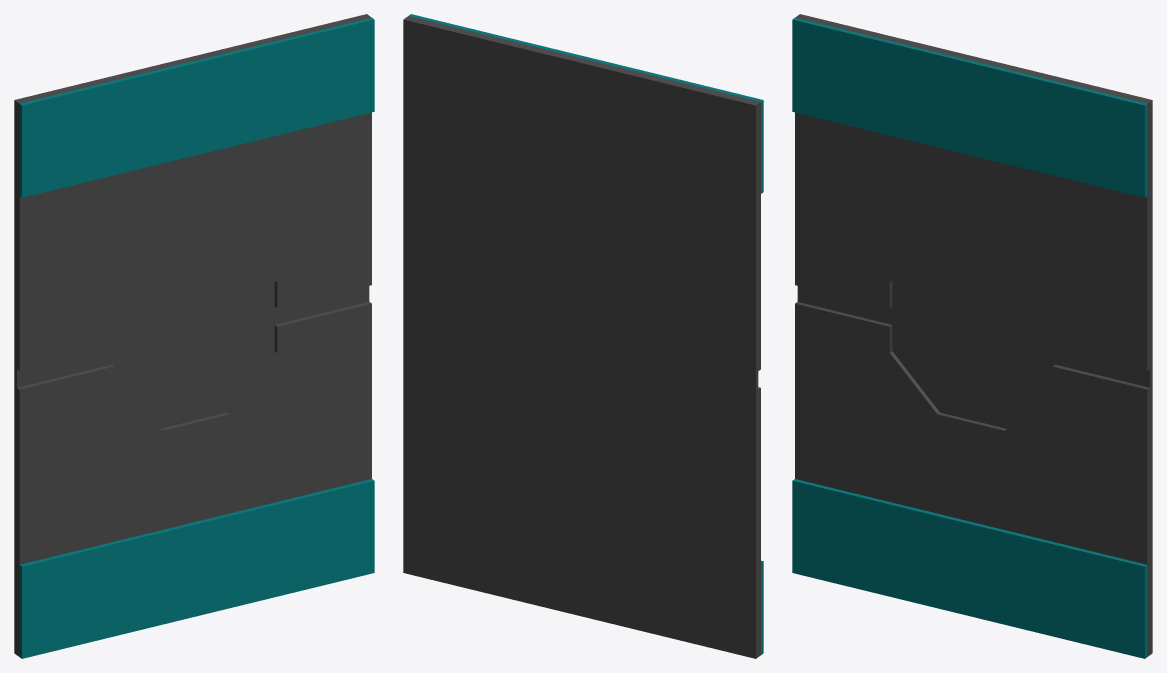
File: sci_fi_modular_sci_fi_wall_2.glb
The picture shows the model from 3 angles, left to right: view 1: azimuth 30°, elevation 25°; view 2: azimuth 150°, elevation 25°; view 3: azimuth 330°, elevation 25°; orthographic projection.
Visible parts, largest first — view 1: Wall, Wall_Panel, Wall_Panel2; view 2: Wall, Wall_Panel; view 3: Wall, Wall_Panel, Wall_Panel2.
Boxes of the visible parts, x1=… form: Wall: x1=14, y1=14, x2=371, y2=656; Wall_Panel: x1=19, y1=18, x2=374, y2=197; Wall_Panel2: x1=19, y1=479, x2=374, y2=658; Wall: x1=403, y1=16, x2=760, y2=658; Wall_Panel: x1=409, y1=14, x2=763, y2=193; Wall: x1=795, y1=14, x2=1152, y2=656; Wall_Panel: x1=792, y1=18, x2=1147, y2=197; Wall_Panel2: x1=792, y1=479, x2=1147, y2=658.
Bounding box in the file's own units: 4 × 6 × 0.15.
